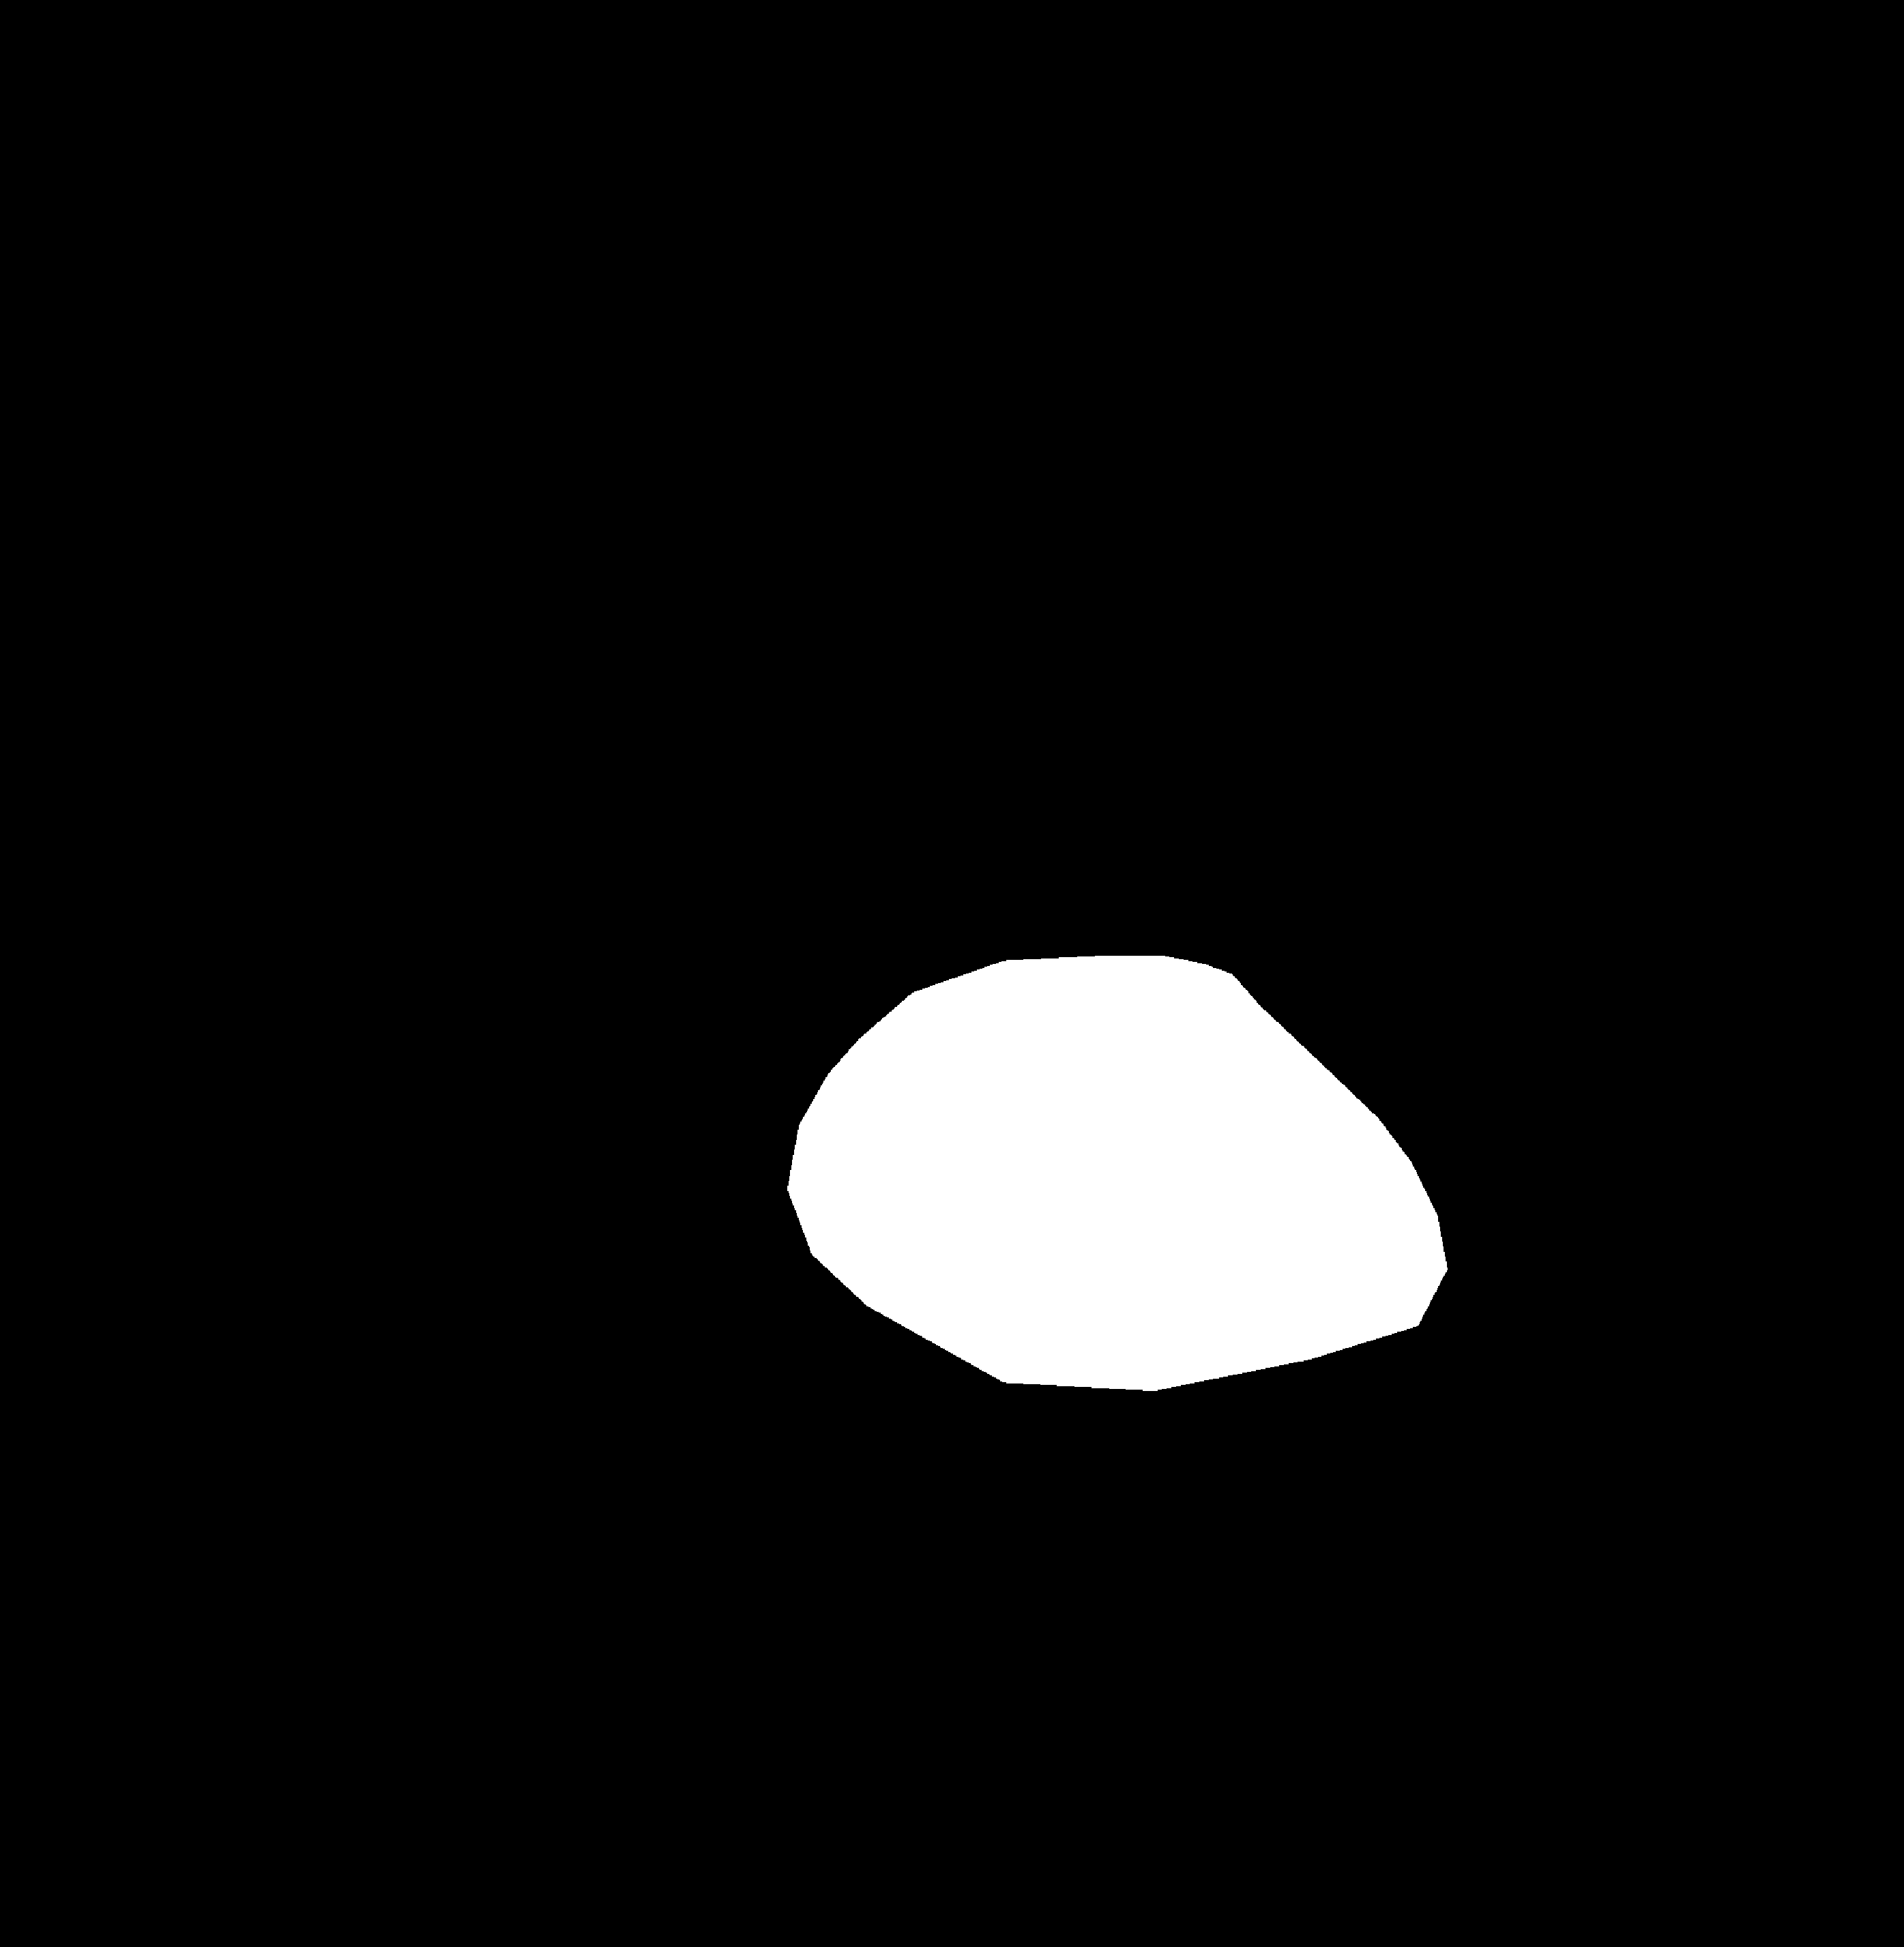heart: (793, 1002, 1444, 1396)
left_lung: (328, 314, 933, 1321)
right_lung: (1100, 349, 1592, 1443)
